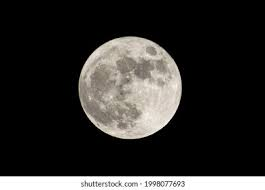moon: (44, 21, 213, 161)
